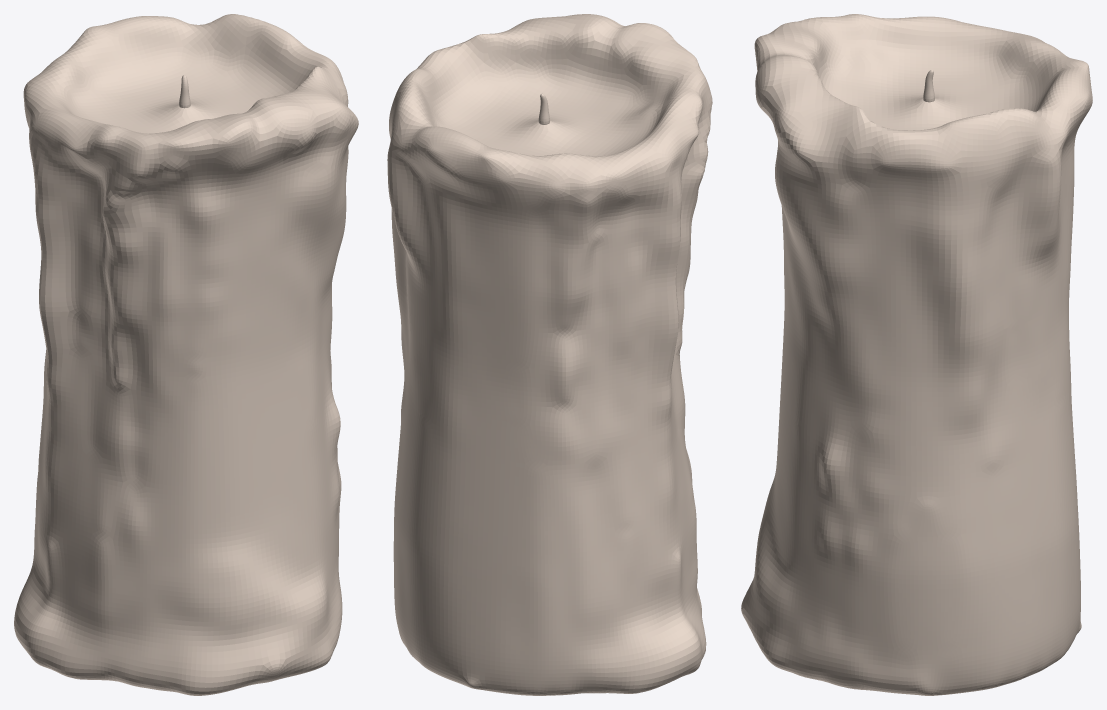
The model's file is Candle_1.fbx.
3 renders of one model, left to right at view 1: azimuth 30°, elevation 25°; view 2: azimuth 150°, elevation 25°; view 3: azimuth 270°, elevation 25°, orthographic. The views are drawn at different scales.
Parts seen in each view (by area): view 1: Candle; view 2: Candle; view 3: Candle.
Part boxes in pixels (x1,y1,x2,y2): Candle: [14, 14, 358, 695]; Candle: [387, 14, 712, 695]; Candle: [741, 14, 1092, 695].
Bounding box in the file's own units: 33.95 × 63.62 × 34.19.
